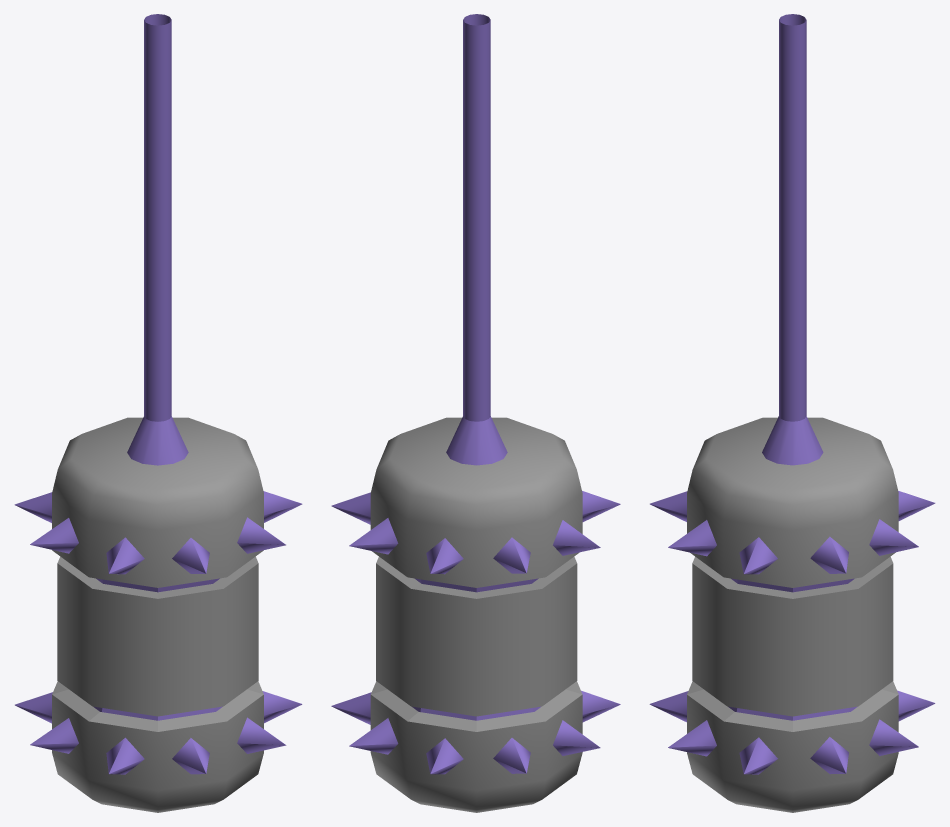
File: Peso01.FBX
3 views of the same model, side by side, from view 1: azimuth 30°, elevation 25°; view 2: azimuth 150°, elevation 25°; view 3: azimuth 270°, elevation 25° (orthographic).
Visible parts, largest first — view 1: Peso01; view 2: Peso01; view 3: Peso01.
Part boxes in pixels (x1,y1,x2,y2): Peso01: (14,14,302,812); Peso01: (331,14,620,812); Peso01: (649,14,935,812).
Bounding box in the file's own units: 11.83 × 11.92 × 34.77.
